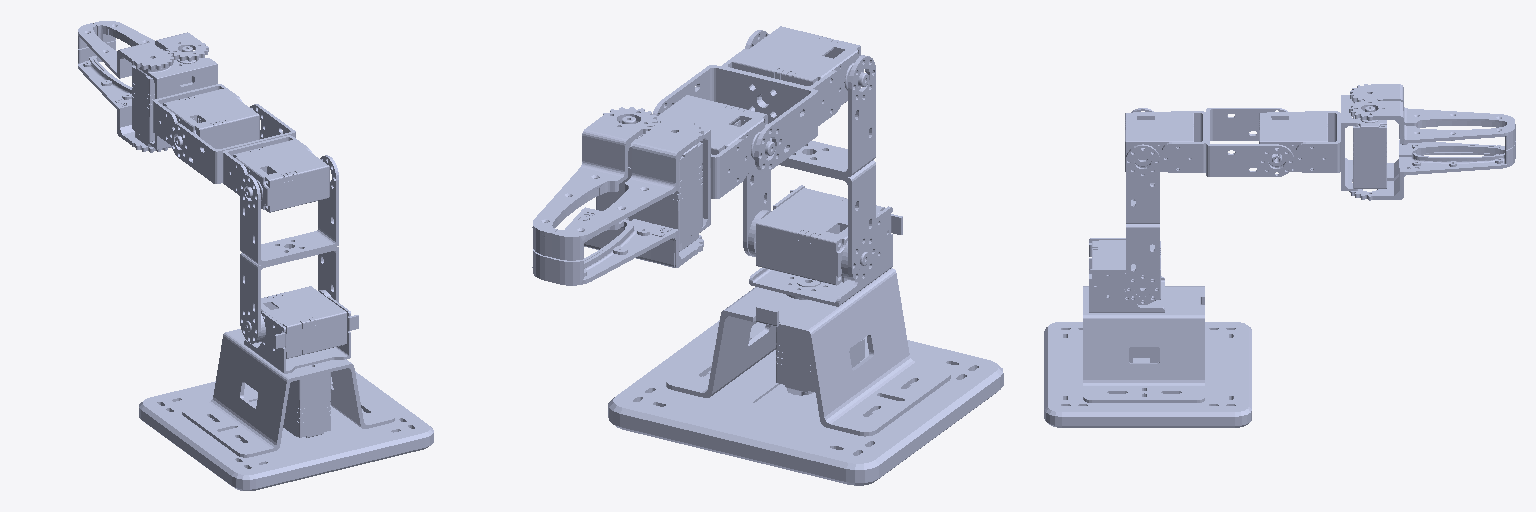
robot.urdf — test4_dof_robot:
<?xml version="1.0" encoding="utf-8"?>
<!-- This URDF was automatically created by SolidWorks to URDF Exporter! Originally created by [author] ([email redacted]) 
     Commit Version: 1.6.0-4-g7f85cfe  Build Version: 1.6.7995.38578
     For more information, please see http://wiki.ros.org/sw_urdf_exporter -->
<robot
  name="test4_dof_robot">
  <link
    name="base_link">
    <inertial>
      <origin
        xyz="6.91716587637066E-09 -0.0403002903986256 0.00812903865775771"
        rpy="0 0 0" />
      <mass
        value="0.170234591037879" />
      <inertia
        ixx="0.000190344867929517"
        ixy="-2.87752967166211E-12"
        ixz="1.49585044578155E-11"
        iyy="0.000385505347421722"
        iyz="4.25280510149558E-08"
        izz="0.000209895117595717" />
    </inertial>
    <visual>
      <origin
        xyz="0 0 0"
        rpy="0 0 0" />
      <geometry>
        <mesh
          filename="package://test4_dof_robot/meshes/base_link.STL" />
      </geometry>
      <material
        name="">
        <color
          rgba="0.792156862745098 0.819607843137255 0.933333333333333 1" />
      </material>
    </visual>
    <collision>
      <origin
        xyz="0 0 0"
        rpy="0 0 0" />
      <geometry>
        <mesh
          filename="package://test4_dof_robot/meshes/base_link.STL" />
      </geometry>
    </collision>
  </link>
  <link
    name="link0">
    <inertial>
      <origin
        xyz="-0.000148686471246792 -0.0108477499496044 0.0127257064637936"
        rpy="0 0 0" />
      <mass
        value="0.0134533721751118" />
      <inertia
        ixx="2.84098753200004E-06"
        ixy="-3.4307159559468E-09"
        ixz="5.30738424481828E-11"
        iyy="2.18307388098522E-06"
        iyz="2.0019419066969E-07"
        izz="3.55990656348061E-06" />
    </inertial>
    <visual>
      <origin
        xyz="0 0 0"
        rpy="0 0 0" />
      <geometry>
        <mesh
          filename="package://test4_dof_robot/meshes/link0.STL" />
      </geometry>
      <material
        name="">
        <color
          rgba="0.792156862745098 0.819607843137255 0.933333333333333 1" />
      </material>
    </visual>
    <collision>
      <origin
        xyz="0 0 0"
        rpy="0 0 0" />
      <geometry>
        <mesh
          filename="package://test4_dof_robot/meshes/link0.STL" />
      </geometry>
    </collision>
  </link>
  <joint
    name="joint0"
    type="revolute">
    <origin
      xyz="0 -0.00968 0.0037502"
      rpy="0 0 0" />
    <parent
      link="base_link" />
    <child
      link="link0" />
    <axis
      xyz="0 0 -1" />
    <limit
      lower="-2"
      upper="2"
      effort="100"
      velocity="1" />
  </joint>
  <link
    name="link1">
    <inertial>
      <origin
        xyz="-2.62658044619668E-09 -0.0345571058935115 0.0254946423103066"
        rpy="0 0 0" />
      <mass
        value="0.0120579589553567" />
      <inertia
        ixx="7.19129614481569E-06"
        ixy="-6.77986390248771E-09"
        ixz="7.80423344774602E-21"
        iyy="5.27353232807871E-06"
        iyz="-2.08826968289198E-19"
        izz="2.71342255945596E-06" />
    </inertial>
    <visual>
      <origin
        xyz="0 0 0"
        rpy="0 0 0" />
      <geometry>
        <mesh
          filename="package://test4_dof_robot/meshes/link1.STL" />
      </geometry>
      <material
        name="">
        <color
          rgba="0.792156862745098 0.819607843137255 0.933333333333333 1" />
      </material>
    </visual>
    <collision>
      <origin
        xyz="0 0 0"
        rpy="0 0 0" />
      <geometry>
        <mesh
          filename="package://test4_dof_robot/meshes/link1.STL" />
      </geometry>
    </collision>
  </link>
  <joint
    name="joint1"
    type="revolute">
    <origin
      xyz="0.02575 -0.00081639 0.017894"
      rpy="-1.5708 0 1.5708" />
    <parent
      link="link0" />
    <child
      link="link1" />
    <axis
      xyz="0 0 1" />
    <limit
      lower="-0.9"
      upper="1.5"
      effort="100"
      velocity="1" />
  </joint>
  <link
    name="link2">
    <inertial>
      <origin
        xyz="0.0265477568891185 5.89201840095477E-10 0.0209223131306843"
        rpy="0 0 0" />
      <mass
        value="0.0163235420272894" />
      <inertia
        ixx="4.24056894578294E-06"
        ixy="3.3898849906389E-09"
        ixz="-3.36881501952151E-09"
        iyy="6.33118981534797E-06"
        iyz="-4.63361312936769E-15"
        izz="3.44644530707849E-06" />
    </inertial>
    <visual>
      <origin
        xyz="0 0 0"
        rpy="0 0 0" />
      <geometry>
        <mesh
          filename="package://test4_dof_robot/meshes/link2.STL" />
      </geometry>
      <material
        name="">
        <color
          rgba="0.792156862745098 0.819607843137255 0.933333333333333 1" />
      </material>
    </visual>
    <collision>
      <origin
        xyz="0 0 0"
        rpy="0 0 0" />
      <geometry>
        <mesh
          filename="package://test4_dof_robot/meshes/link2.STL" />
      </geometry>
    </collision>
  </link>
  <joint
    name="joint2"
    type="revolute">
    <origin
      xyz="0 -0.081399 0.00495"
      rpy="0 0 0" />
    <parent
      link="link1" />
    <child
      link="link2" />
    <axis
      xyz="0 0 1" />
    <limit
      lower="-3.14"
      upper="0.9"
      effort="100"
      velocity="1" />
  </joint>
  <link
    name="link3">
    <inertial>
      <origin
        xyz="0.033832 -8.9596E-05 0.021063"
        rpy="0 0 0" />
      <mass
        value="0.026612" />
      <inertia
        ixx="6.1113E-06"
        ixy="-1.4134E-12"
        ixz="-2.371E-07"
        iyy="5.9084E-06"
        iyz="3.3192E-09"
        izz="5.1331E-06" />
    </inertial>
    <visual>
      <origin
        xyz="0 0 0"
        rpy="0 0 0" />
      <geometry>
        <mesh
          filename="package://test4_dof_robot/meshes/link3.STL" />
      </geometry>
      <material
        name="">
        <color
          rgba="0.79216 0.81961 0.93333 1" />
      </material>
    </visual>
    <collision>
      <origin
        xyz="0 0 0"
        rpy="0 0 0" />
      <geometry>
        <mesh
          filename="package://test4_dof_robot/meshes/link3.STL" />
      </geometry>
    </collision>
  </link>
  <joint
    name="joint3"
    type="revolute">
    <origin
      xyz="0.077374 0 0"
      rpy="0 0 0" />
    <parent
      link="link2" />
    <child
      link="link3" />
    <axis
      xyz="0 0 1" />
    <limit
      lower="-2"
      upper="1.5"
      effort="100"
      velocity="1" />
  </joint>
  <link
    name="link4_0">
    <inertial>
      <origin
        xyz="-0.0006307 0.033046 -0.02663"
        rpy="0 0 0" />
      <mass
        value="0.008697" />
      <inertia
        ixx="7.0254E-06"
        ixy="4.55E-07"
        ixz="-4.4719E-09"
        iyy="7.9398E-07"
        iyz="3.3349E-08"
        izz="6.772E-06" />
    </inertial>
    <visual>
      <origin
        xyz="0 0 0"
        rpy="0 0 0" />
      <geometry>
        <mesh
          filename="package://test4_dof_robot/meshes/link4_0.STL" />
      </geometry>
      <material
        name="">
        <color
          rgba="0.79216 0.81961 0.93333 1" />
      </material>
    </visual>
    <collision>
      <origin
        xyz="0 0 0"
        rpy="0 0 0" />
      <geometry>
        <mesh
          filename="package://test4_dof_robot/meshes/link4_0.STL" />
      </geometry>
    </collision>
  </link>
  <joint
    name="joint4_0"
    type="revolute">
    <origin
      xyz="0.053675 -0.0266 0.0103"
      rpy="1.5708 1.5708 0" />
    <parent
      link="link3" />
    <child
      link="link4_0" />
    <axis
      xyz="0 0 -1" />
    <limit
      lower="0"
      upper="2"
      effort="100"
      velocity="1" />
  </joint>
  <link
    name="link4_1">
    <inertial>
      <origin
        xyz="0.00017396 0.031505 -0.031493"
        rpy="0 0 0" />
      <mass
        value="0.013737" />
      <inertia
        ixx="1.1307E-05"
        ixy="-5.7111E-07"
        ixz="-4.6526E-08"
        iyy="1.2253E-06"
        iyz="-7.5619E-07"
        izz="1.0889E-05" />
    </inertial>
    <visual>
      <origin
        xyz="0 0 0"
        rpy="0 0 0" />
      <geometry>
        <mesh
          filename="package://test4_dof_robot/meshes/link4_1.STL" />
      </geometry>
      <material
        name="">
        <color
          rgba="0.79216 0.81961 0.93333 1" />
      </material>
    </visual>
    <collision>
      <origin
        xyz="0 0 0"
        rpy="0 0 0" />
      <geometry>
        <mesh
          filename="package://test4_dof_robot/meshes/link4_1.STL" />
      </geometry>
    </collision>
  </link>
  <joint
    name="joint4_1"
    type="revolute">
    <origin
      xyz="0.053675 -0.0263 0.0323"
      rpy="1.5708 1.5708 0" />
    <parent
      link="link3" />
    <child
      link="link4_1" />
    <axis
      xyz="0 0 -1" />
    <limit
      lower="-2"
      upper="0"
      effort="100"
      velocity="1" />
  </joint>
</robot>

--- What the picture shows (computed from the rendered views, not written in the file) ---
3 views of the same robot in one strip: view 1: azimuth 30°, elevation 25°; view 2: azimuth 150°, elevation 25°; view 3: azimuth 270°, elevation 25° (orthographic).
Model test4_dof_robot with 7 links and 6 joints (6 revolute), rooted at base_link, posed every joint at zero.
Visible links, largest first — view 1: base_link, link3, link2, link1, link0, link4_1, link4_0; view 2: base_link, link2, link0, link4_1, link3, link1, link4_0; view 3: base_link, link2, link3, link1, link4_0, link4_1, link0.
Boxes of the visible links, left/top/right/bottom form: base_link: left=139, top=329, right=433, bottom=490; link3: left=132, top=46, right=259, bottom=149; link2: left=170, top=104, right=329, bottom=212; link1: left=240, top=155, right=338, bottom=343; link0: left=244, top=286, right=358, bottom=373; link4_1: left=78, top=23, right=173, bottom=152; link4_0: left=93, top=21, right=208, bottom=61; base_link: left=608, top=268, right=1003, bottom=485; link2: left=652, top=26, right=868, bottom=171; link0: left=749, top=185, right=902, bottom=306; link4_1: left=552, top=119, right=703, bottom=285; link3: left=596, top=95, right=774, bottom=251; link1: left=743, top=30, right=875, bottom=281; link4_0: left=532, top=107, right=657, bottom=281; base_link: left=1044, top=286, right=1251, bottom=427; link2: left=1125, top=108, right=1293, bottom=176; link3: left=1259, top=95, right=1386, bottom=190; link1: left=1126, top=108, right=1159, bottom=304; link4_0: left=1349, top=100, right=1514, bottom=200; link4_1: left=1350, top=84, right=1515, bottom=180; link0: left=1089, top=238, right=1164, bottom=312.
Size in the robot's own frame: 0.1276 by 0.2719 by 0.1798 metres.
7 mesh visuals loaded from 7 distinct referenced files (7 binary STL).